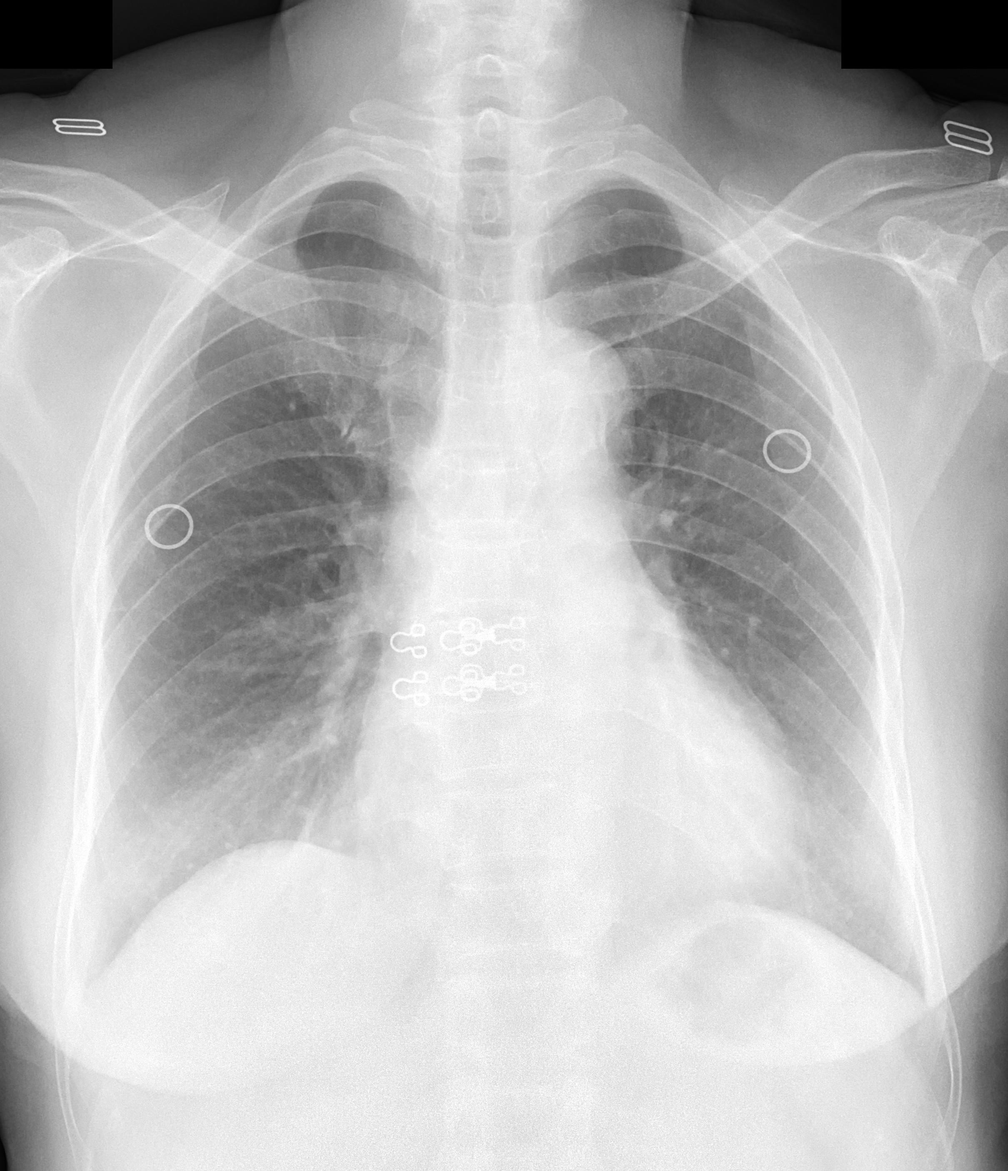Aortic enlargement: (495, 326, 640, 463)
Cardiomegaly: (343, 748, 823, 928)
